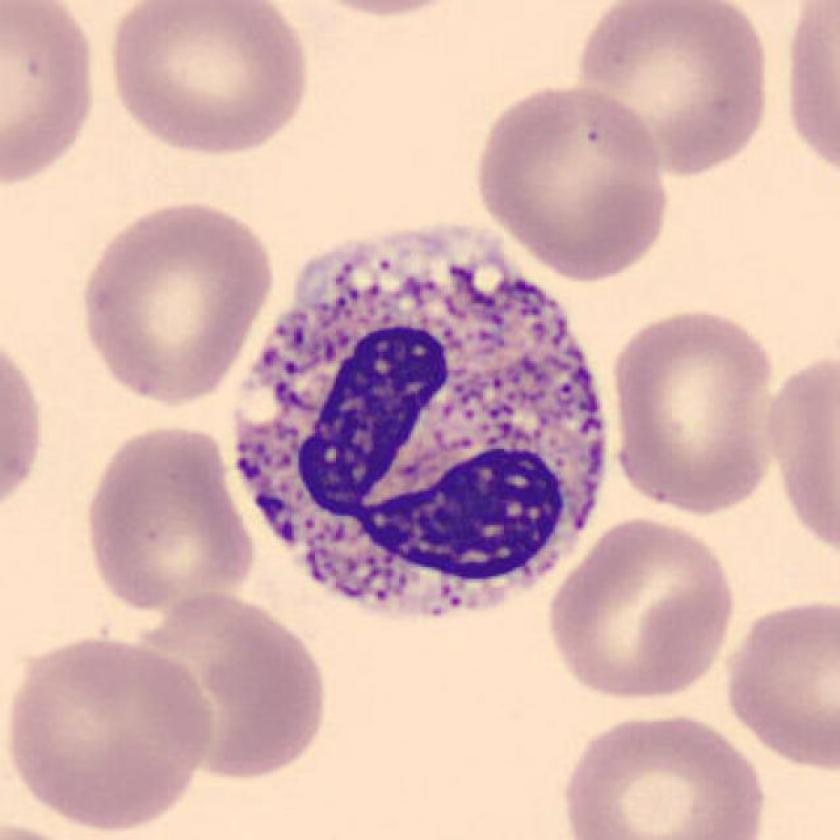neutrophil: (239, 222, 605, 617)
